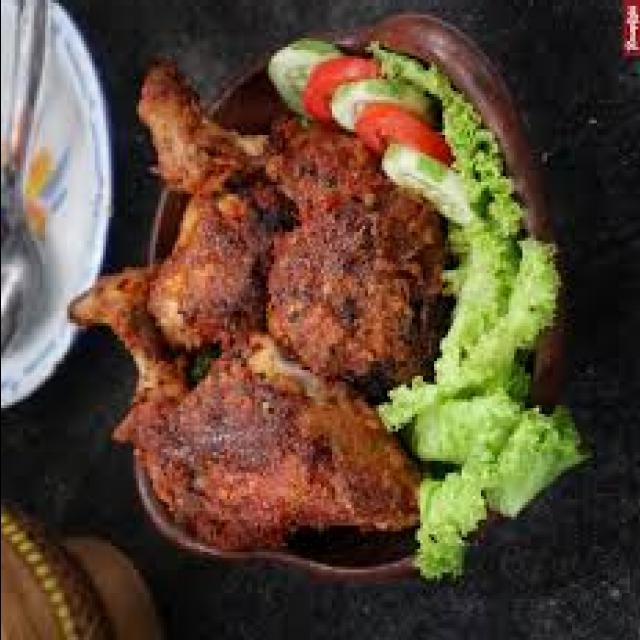ayam bakar: (74, 267, 422, 570)
